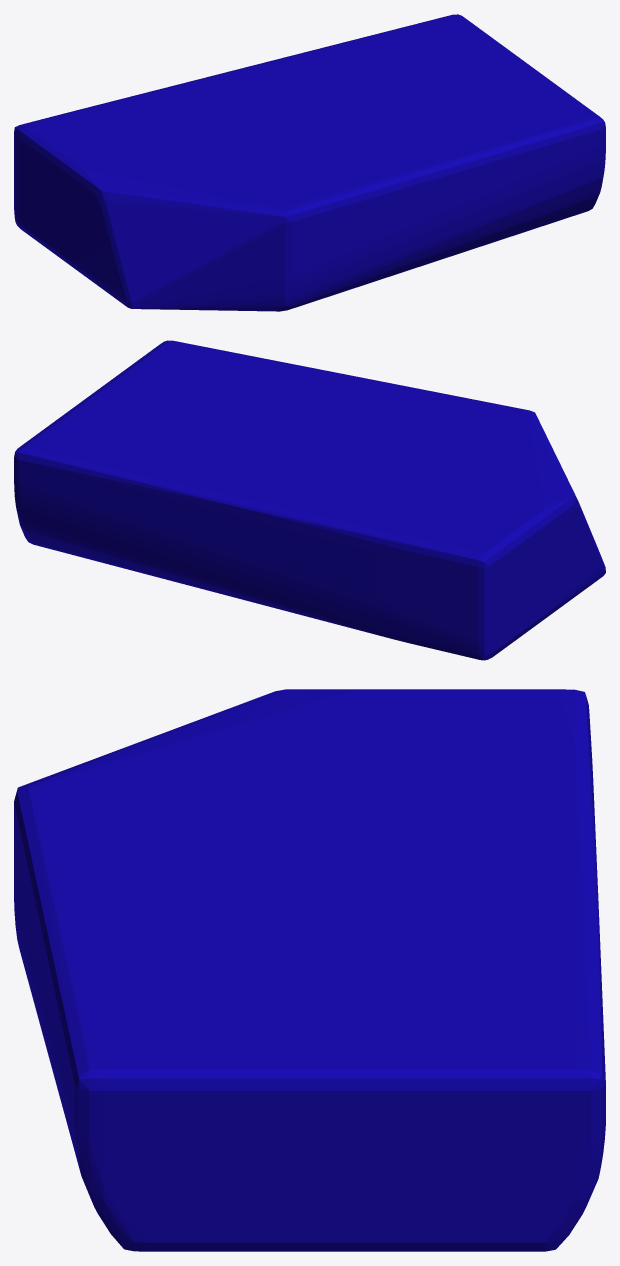
Rendered from right_elbow_link_part_5.obj.
3 renders of one model, top to bottom at view 1: azimuth 30°, elevation 25°; view 2: azimuth 150°, elevation 25°; view 3: azimuth 270°, elevation 25°, orthographic. The views are drawn at different scales.
Bounding box in the file's own units: 0.0905 × 0.0196 × 0.0577.
